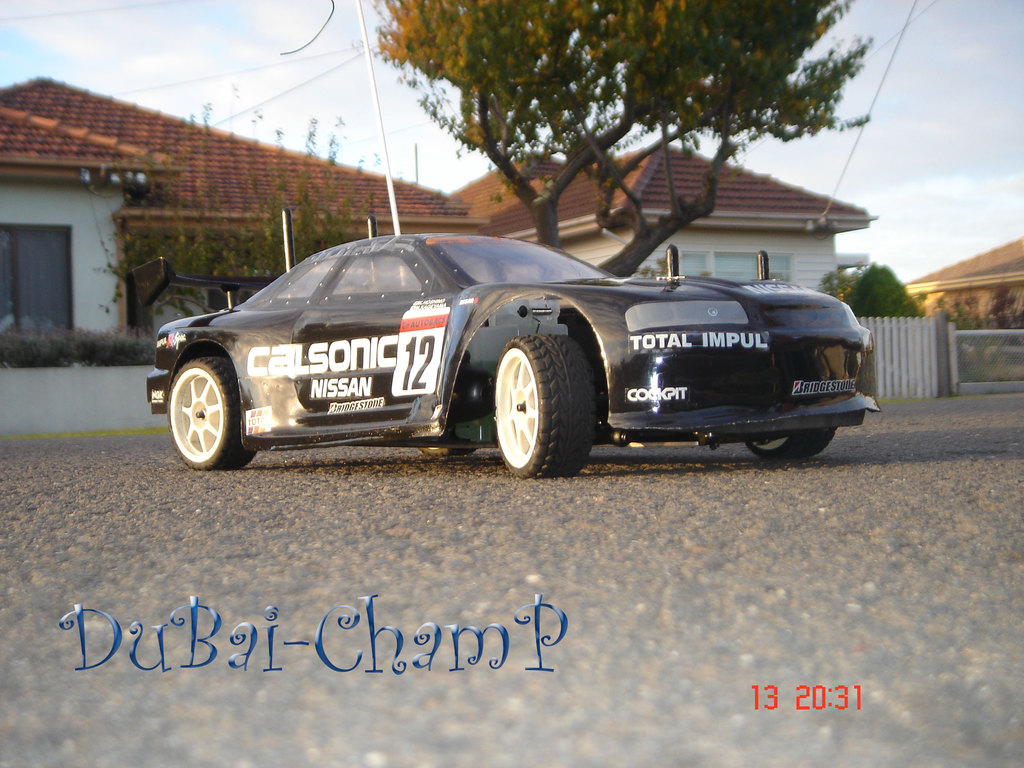Car: (124, 207, 881, 480)
